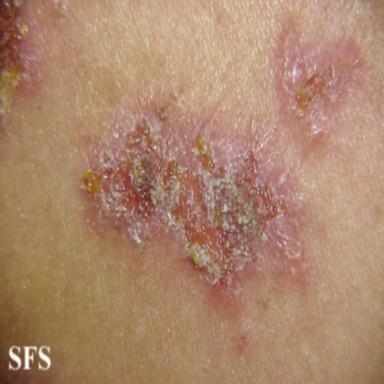Hailey-Hailey-Disease: (82, 97, 301, 288), (277, 22, 363, 150), (0, 0, 67, 127)
